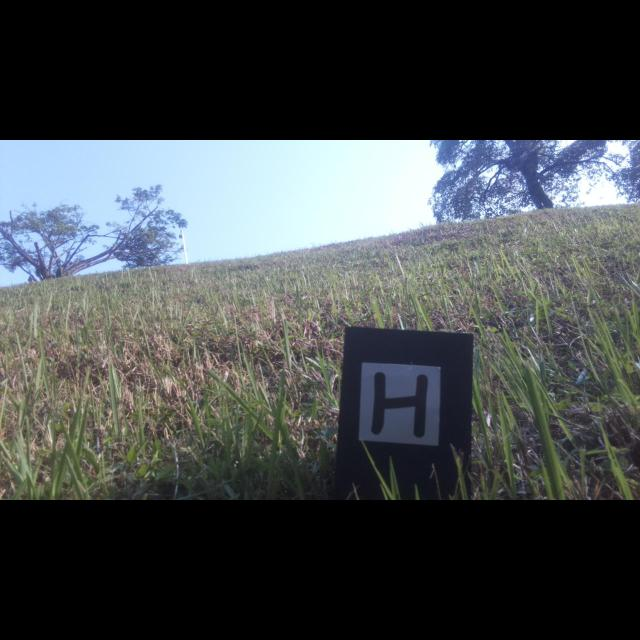H: (371, 372, 428, 437)
